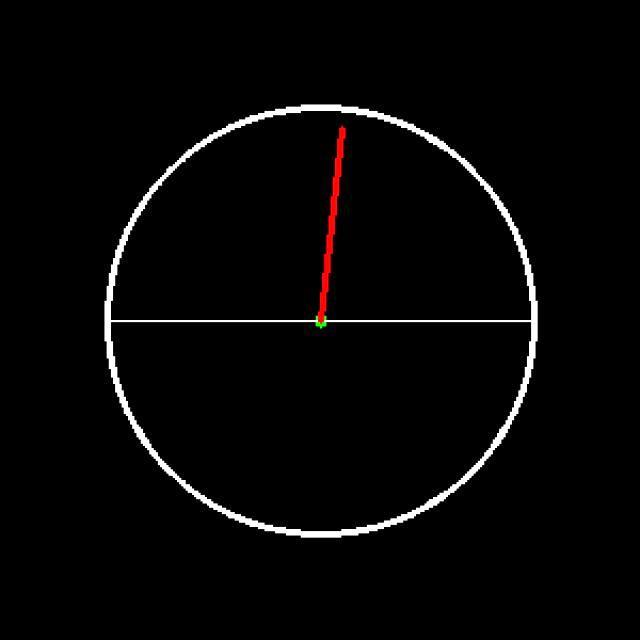Needle_Tip: (322, 114, 364, 161)
Needle_base: (284, 298, 357, 360)
